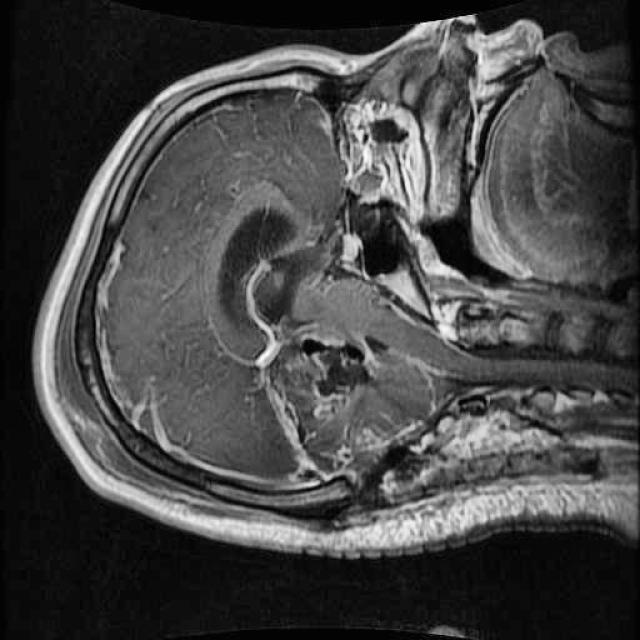Tumor: (238, 310, 451, 510)
